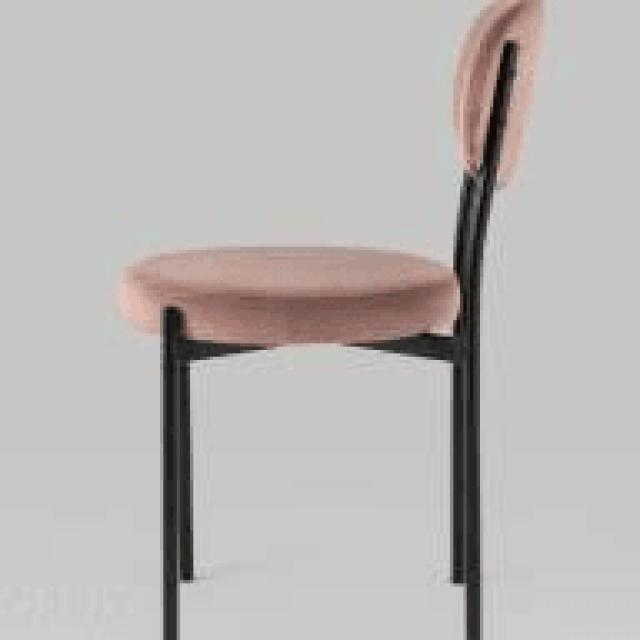chair: (116, 0, 546, 640), (122, 9, 537, 324)
